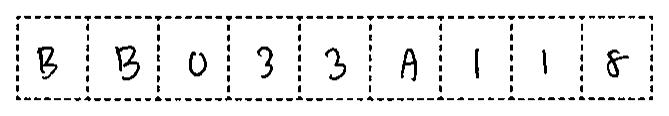0: (184, 47, 214, 78)
1: (459, 41, 495, 87), (528, 43, 561, 81)
3: (320, 42, 353, 86), (254, 41, 282, 86)
8: (595, 45, 635, 82)
A: (394, 42, 424, 86)
B: (110, 40, 147, 84), (30, 39, 64, 84)
